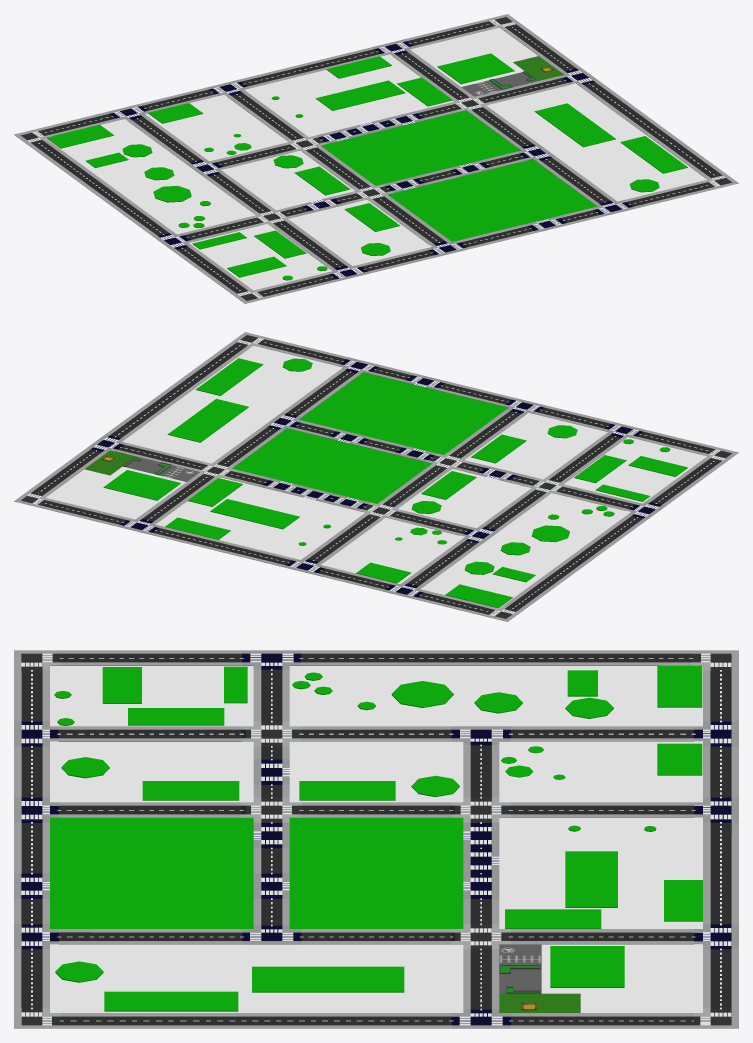
The model's file is base_floor.glb.
3 renders of one model, top to bottom at view 1: azimuth 30°, elevation 25°; view 2: azimuth 150°, elevation 25°; view 3: azimuth 270°, elevation 25°, orthographic. The views are drawn at different scales.
Visible parts, largest first — view 1: Empty.035; view 2: Empty.035; view 3: Empty.035, Plane.006_parcheggio gelati_0.002, Plane.011_TEXTURE FINALE_0.002, Plane.008_texture FINALE.002_0.002, Plane.015_texture.001_0.002.
Part boxes in pixels (x1=…): Empty.035: x1=14, y1=14, x2=738, y2=303; Empty.035: x1=14, y1=332, x2=738, y2=621; Empty.035: x1=14, y1=650, x2=738, y2=1028; Plane.006_parcheggio gelati_0.002: x1=499, y1=944, x2=541, y2=966; Plane.011_TEXTURE FINALE_0.002: x1=499, y1=966, x2=541, y2=993; Plane.008_texture FINALE.002_0.002: x1=541, y1=993, x2=580, y2=1012; Plane.015_texture.001_0.002: x1=499, y1=993, x2=541, y2=1012.
Size of the model in its own units: 298 by 0.4416 by 242.
74 materials, 74 textured.
